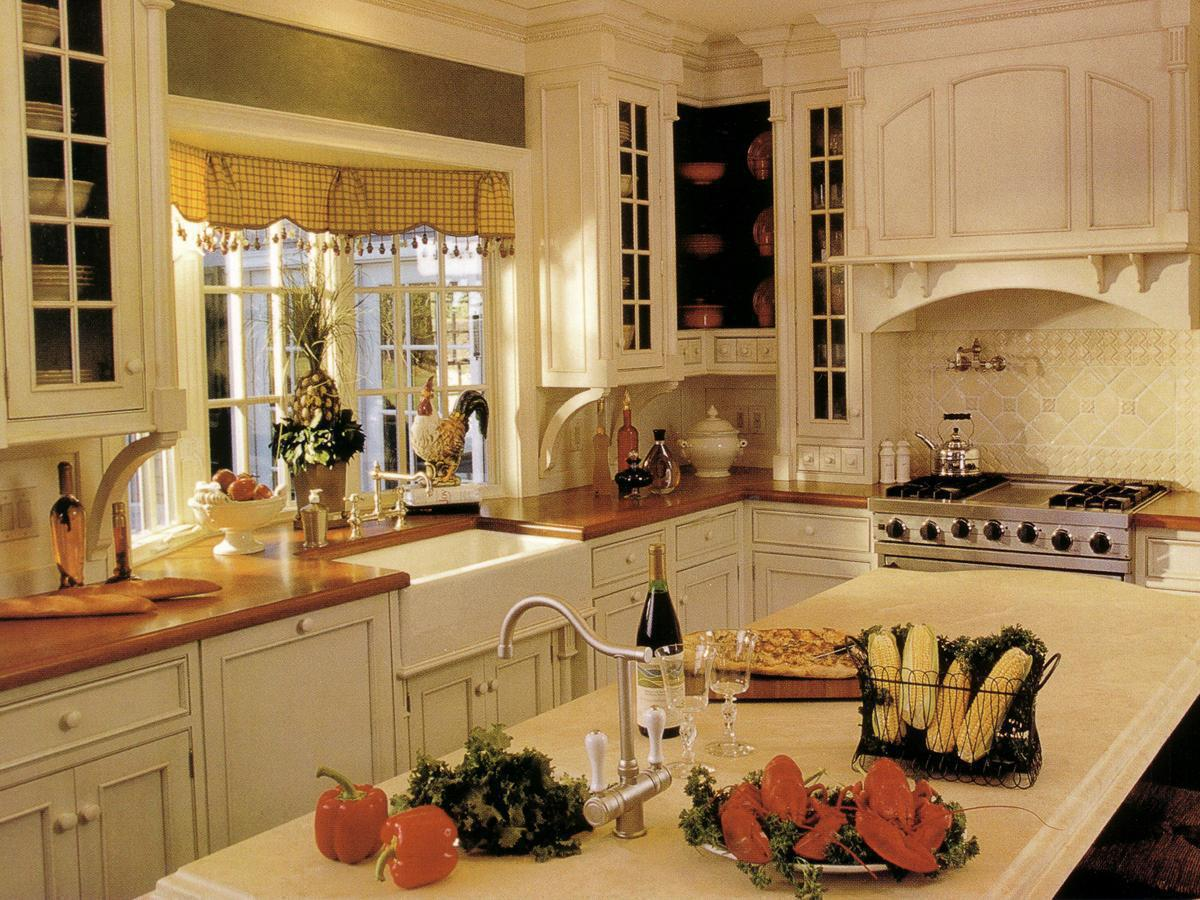Lavaplatos: (292, 468, 577, 594)
